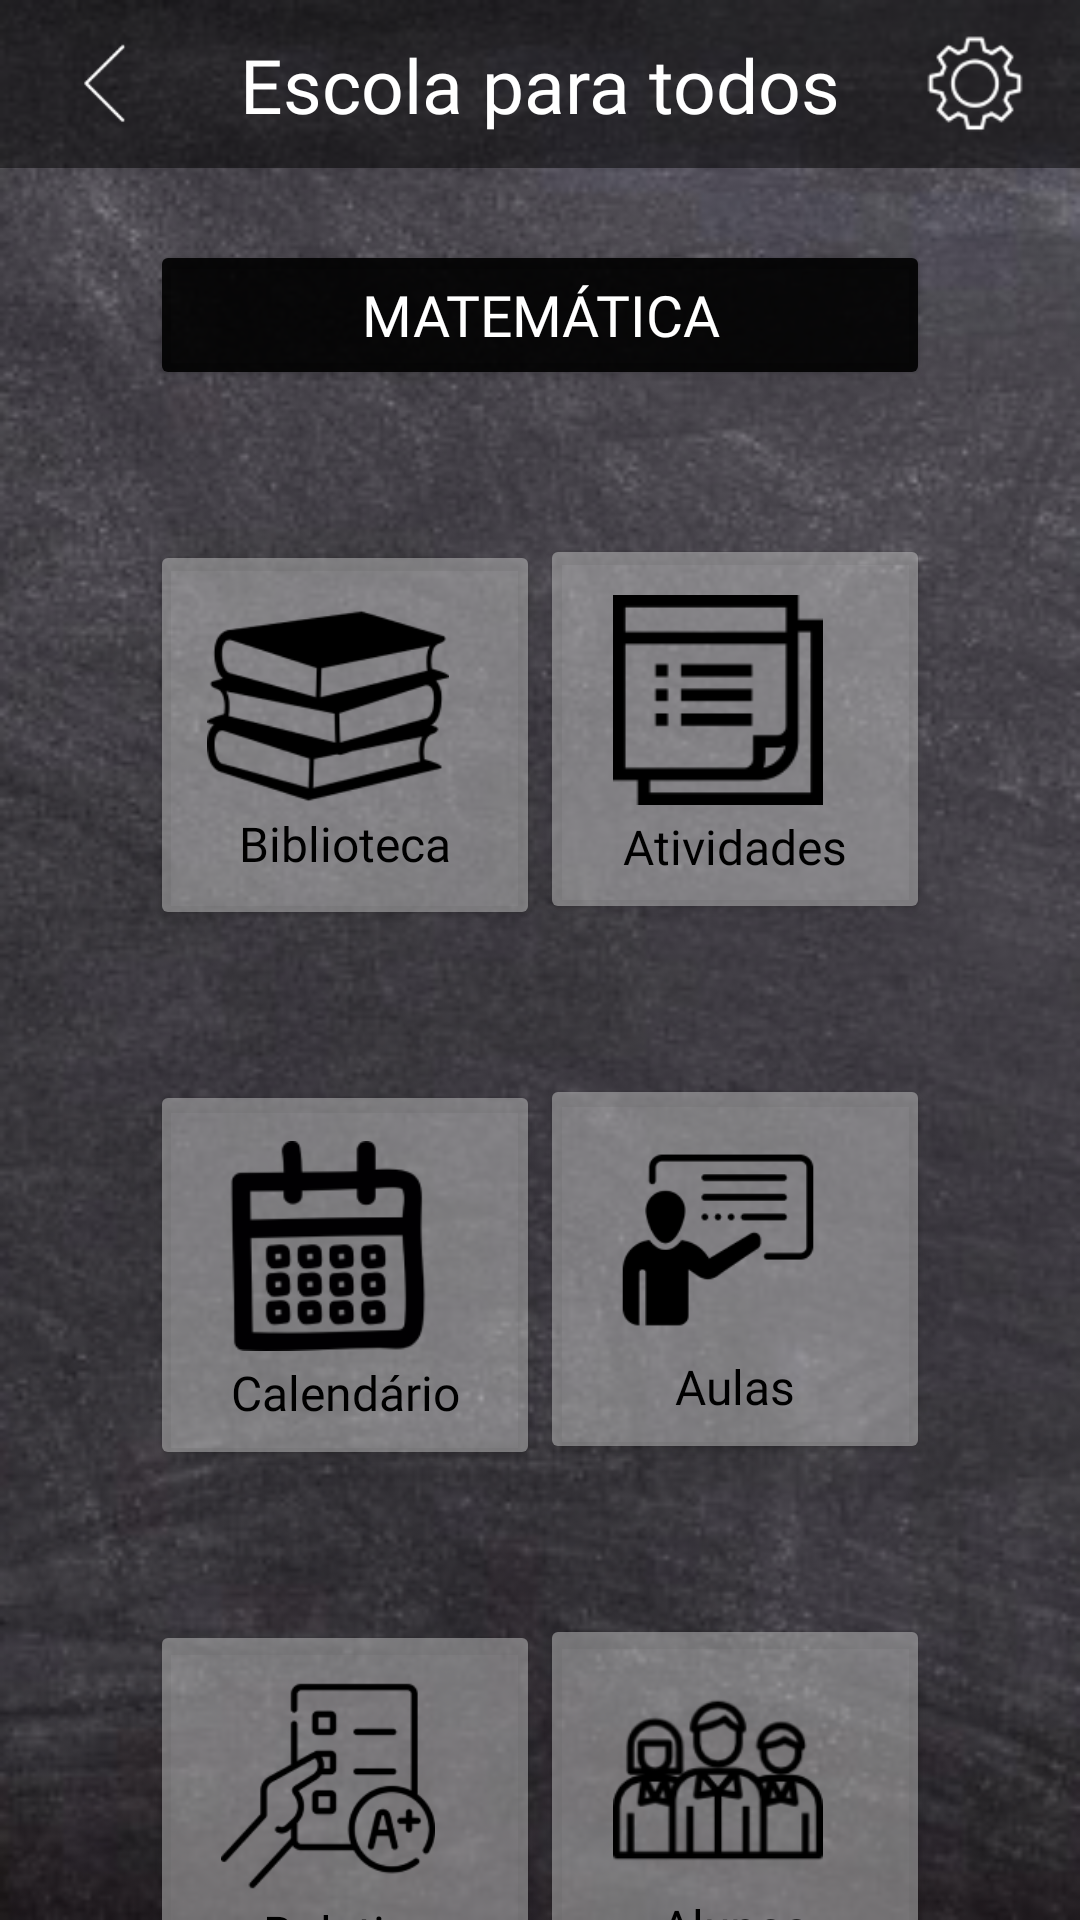

Where icons sit on this 1080*1920 app screen, as [x1, y1, x2, y2]:
config: [927, 36, 1023, 130]
notas adesivas: [613, 595, 823, 805]
pilha tres livros: [207, 611, 449, 801]
voltar: [84, 44, 125, 122]
